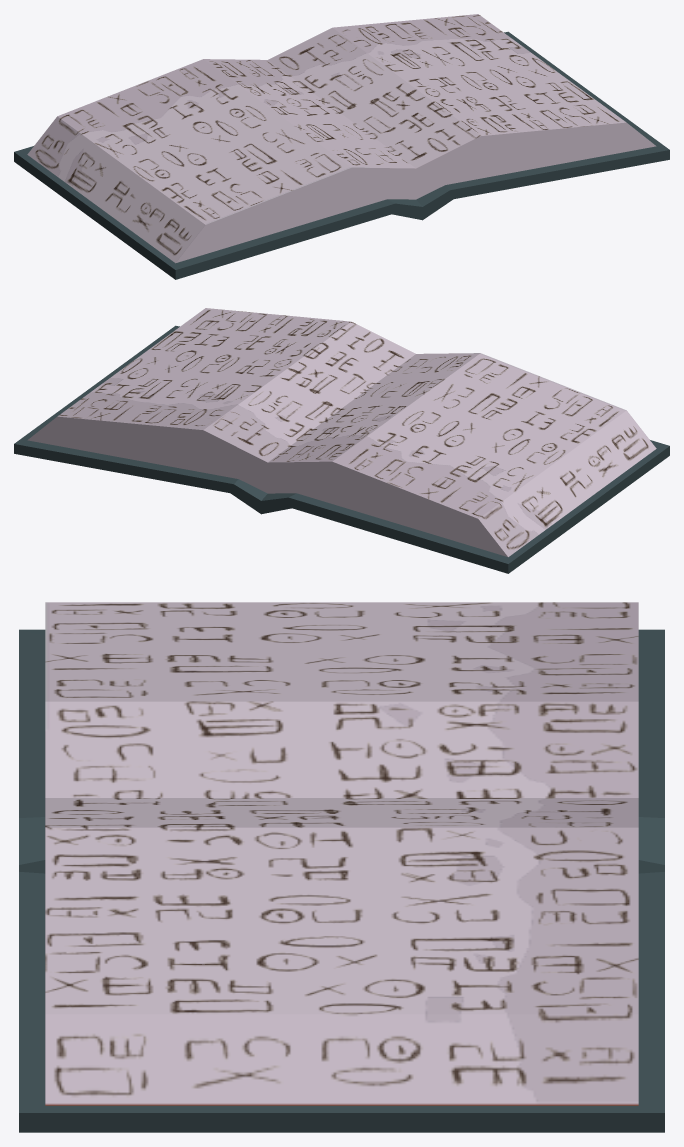
File: SM_Item_Book_05.fbx
3 views of the same model, one above another, from view 1: azimuth 30°, elevation 25°; view 2: azimuth 150°, elevation 25°; view 3: azimuth 270°, elevation 25° (orthographic). The views are drawn at different scales.
Visible parts, largest first — view 1: SM_Item_Book_05; view 2: SM_Item_Book_05; view 3: SM_Item_Book_05.
Part boxes in pixels (x1,y1,x2,y2): SM_Item_Book_05: (14, 14, 669, 279); SM_Item_Book_05: (14, 308, 669, 573); SM_Item_Book_05: (19, 602, 664, 1132).
Bounding box in the file's own units: 0.5097 × 0.0626 × 0.2884.
Materials: 1 (1 with a texture image).
